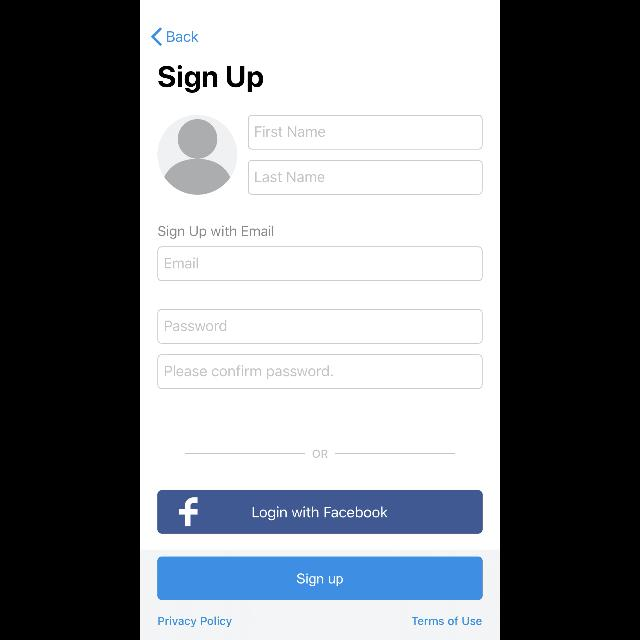icon: (158, 115, 238, 195), (152, 28, 162, 46)
input: (158, 246, 482, 282), (158, 354, 482, 388), (158, 309, 482, 343), (248, 160, 482, 196), (248, 114, 482, 150)
text: (158, 66, 264, 92), (165, 366, 333, 378), (158, 226, 274, 238), (158, 616, 232, 628), (255, 126, 325, 138), (256, 172, 324, 182), (166, 321, 227, 332), (412, 617, 482, 625), (165, 258, 198, 268), (168, 32, 198, 42), (312, 450, 328, 458)
textbutton: (158, 556, 482, 600), (158, 491, 482, 534)
